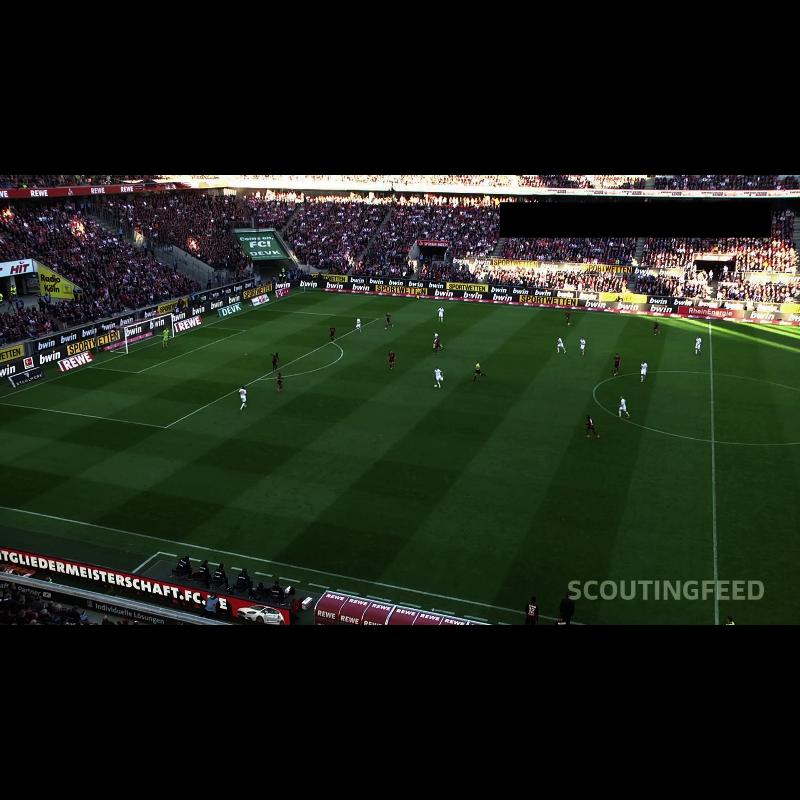cross_recipient_zone: (0, 309, 378, 427)
crossing_player_zone: (0, 403, 303, 542), (255, 291, 501, 326)
pitch: (0, 291, 800, 625)
